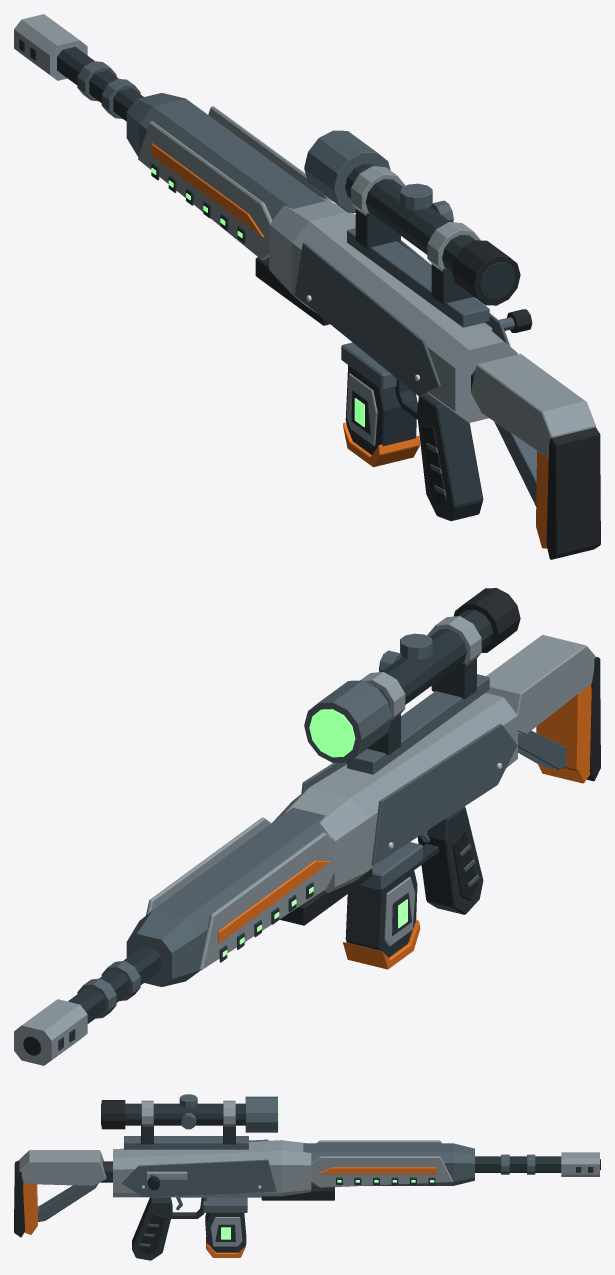
File: boltsniper.glb
3 renders of one model, top to bottom at view 1: azimuth 30°, elevation 25°; view 2: azimuth 150°, elevation 25°; view 3: azimuth 270°, elevation 25°, orthographic. The views are drawn at different scales.
Visible parts, largest first — view 1: Body | 01 | ceramic gray receiver, Body | 02 | machined edge metal, Body | 03 | graphite steel, Body | 05 | charcoal grip polymer, Magazine | 03 | graphite steel, Body | 04 | burnt orange enamel, Magazine | 04 | burnt orange enamel, Magazine | 02 | machined edge metal, Magazine | 01 | ceramic gray receiver; view 2: Body | 02 | machined edge metal, Body | 01 | ceramic gray receiver, Body | 03 | graphite steel, Body | 05 | charcoal grip polymer, Body | 04 | burnt orange enamel, Magazine | 03 | graphite steel, Body | 06 | lime status emitters, Magazine | 02 | machined edge metal, Magazine | 04 | burnt orange enamel, Magazine | 01 | ceramic gray receiver; view 3: Body | 01 | ceramic gray receiver, Body | 02 | machined edge metal, Body | 03 | graphite steel, Body | 05 | charcoal grip polymer, Body | 04 | burnt orange enamel, Magazine | 03 | graphite steel, Magazine | 02 | machined edge metal, Magazine | 01 | ceramic gray receiver, Magazine | 04 | burnt orange enamel.
Boxes of the visible parts, x1=… form: Body | 01 | ceramic gray receiver: x1=14, y1=14, x2=595, y2=457; Body | 02 | machined edge metal: x1=77, y1=61, x2=536, y2=506; Body | 03 | graphite steel: x1=19, y1=39, x2=515, y2=521; Body | 05 | charcoal grip polymer: x1=255, y1=240, x2=600, y2=559; Magazine | 03 | graphite steel: x1=345, y1=365, x2=417, y2=454; Body | 04 | burnt orange enamel: x1=151, y1=143, x2=548, y2=548; Magazine | 04 | burnt orange enamel: x1=343, y1=422, x2=420, y2=467; Magazine | 02 | machined edge metal: x1=341, y1=342, x2=396, y2=389; Magazine | 01 | ceramic gray receiver: x1=346, y1=373, x2=377, y2=445; Body | 02 | machined edge metal: x1=77, y1=633, x2=566, y2=1018; Body | 01 | ceramic gray receiver: x1=14, y1=616, x2=595, y2=1065; Body | 03 | graphite steel: x1=58, y1=610, x2=493, y2=1050; Body | 05 | charcoal grip polymer: x1=23, y1=588, x2=600, y2=1055; Body | 04 | burnt orange enamel: x1=218, y1=684, x2=591, y2=943; Magazine | 03 | graphite steel: x1=345, y1=867, x2=417, y2=957; Body | 06 | lime status emitters: x1=222, y1=709, x2=355, y2=956; Magazine | 02 | machined edge metal: x1=360, y1=842, x2=422, y2=889; Magazine | 04 | burnt orange enamel: x1=343, y1=920, x2=420, y2=969; Magazine | 01 | ceramic gray receiver: x1=384, y1=877, x2=415, y2=946; Body | 01 | ceramic gray receiver: x1=19, y1=1100, x2=599, y2=1197; Body | 02 | machined edge metal: x1=37, y1=1094, x2=535, y2=1246; Body | 03 | graphite steel: x1=100, y1=1103, x2=593, y2=1260; Body | 05 | charcoal grip polymer: x1=14, y1=1100, x2=600, y2=1254; Body | 04 | burnt orange enamel: x1=22, y1=1167, x2=436, y2=1234; Magazine | 03 | graphite steel: x1=205, y1=1213, x2=246, y2=1252; Magazine | 02 | machined edge metal: x1=202, y1=1197, x2=247, y2=1212; Magazine | 01 | ceramic gray receiver: x1=210, y1=1217, x2=242, y2=1246; Magazine | 04 | burnt orange enamel: x1=206, y1=1237, x2=245, y2=1257.
Bounding box in the file's own units: 0.174 × 0.4076 × 1.36.
